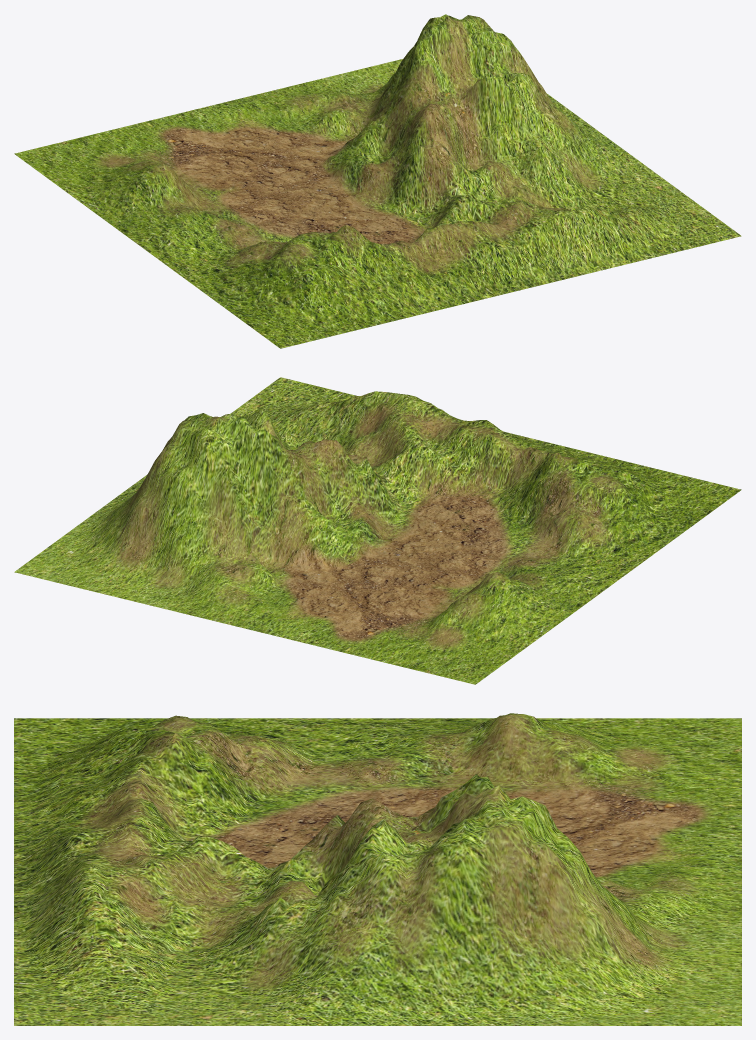
Rendered from terraintexture.dae.
3 views of the same model, one above another, from view 1: azimuth 30°, elevation 25°; view 2: azimuth 150°, elevation 25°; view 3: azimuth 270°, elevation 25° (orthographic). The views are drawn at different scales.
Visible parts, largest first — view 1: Landscape; view 2: Landscape; view 3: Landscape.
Boxes of the visible parts, x1,y1,x2,y2 form: Landscape: [14, 14, 741, 348]; Landscape: [14, 377, 741, 684]; Landscape: [14, 713, 741, 1025].
Bounding box in the file's own units: 800 × 800 × 197.
1 material, 1 textured.
